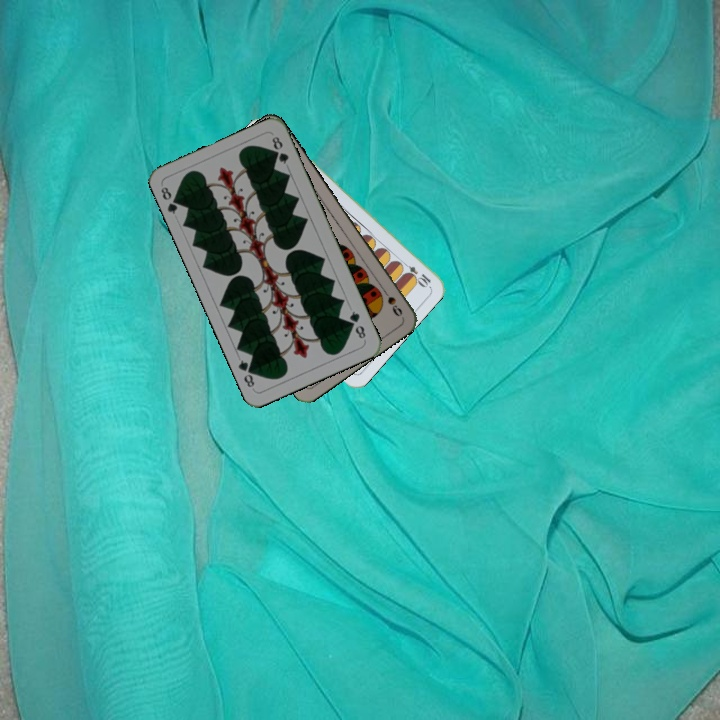E10: (397, 258, 433, 289)
G8: (157, 183, 184, 217), (345, 307, 368, 341)
S9: (377, 283, 405, 319)
